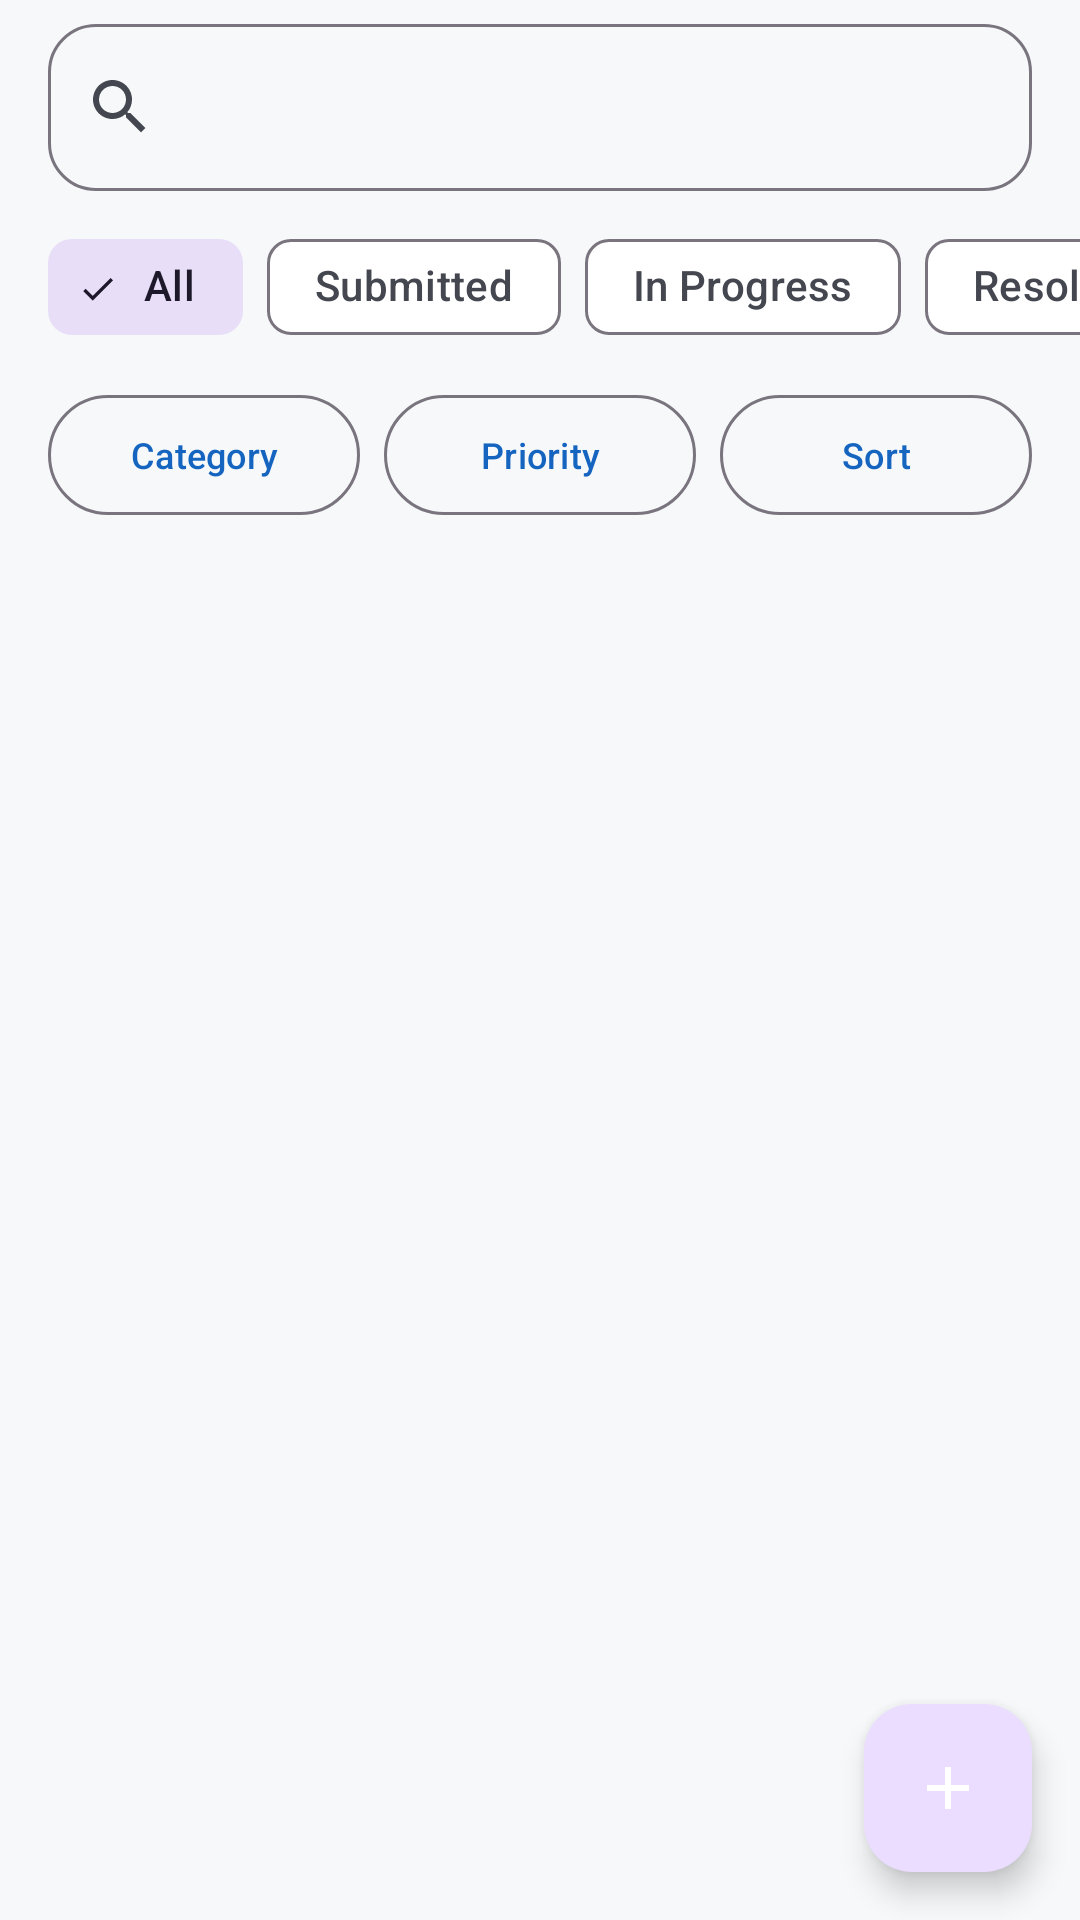

Locate icon controls on the screen. Image size 1080 × 1920, boxes as (x1, y1, x2, y2).
Create Report: (864, 1704, 1032, 1872)
